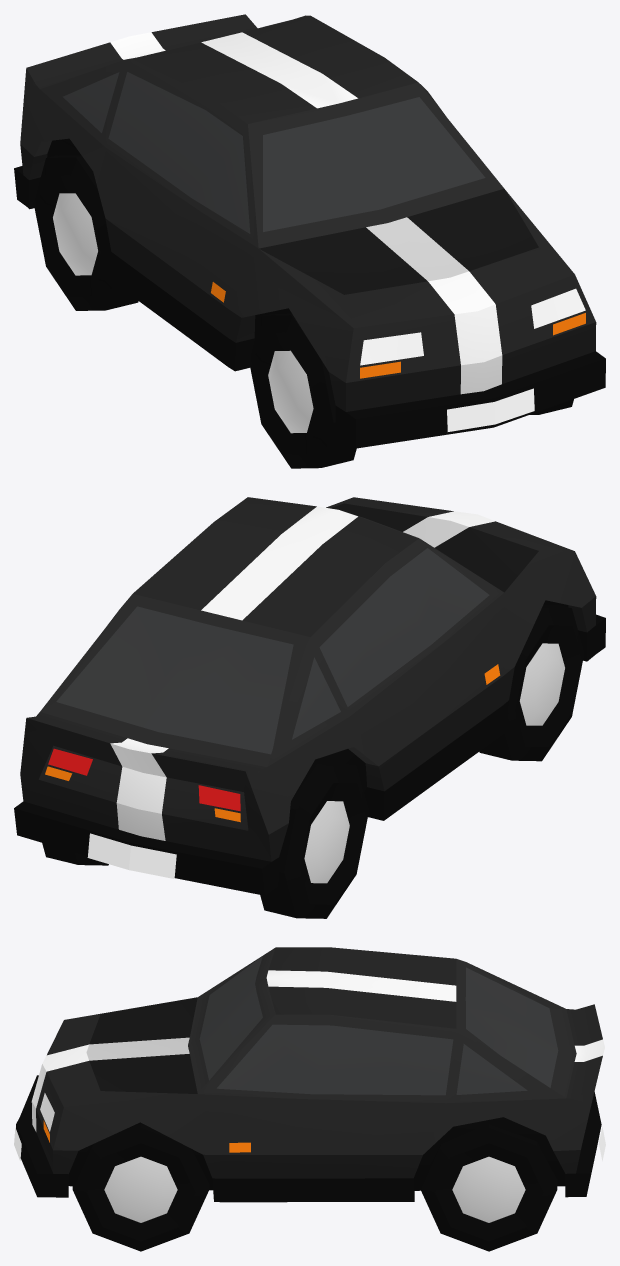
Rendered from sedan_black_with_white_stripe.glb.
The picture shows the model from 3 angles, top to bottom: view 1: azimuth 30°, elevation 25°; view 2: azimuth 150°, elevation 25°; view 3: azimuth 270°, elevation 25°; orthographic projection. The views are drawn at different scales.
Parts seen in each view (by area): view 1: Object_8; view 2: Object_8; view 3: Object_8.
Part boxes in pixels (x1,y1,x2,y2): Object_8: (14, 14, 605, 468); Object_8: (14, 497, 605, 918); Object_8: (14, 947, 605, 1251).
Size of the model in its own units: 2.47 by 2.37 by 5.68.
1 material, 1 textured.
